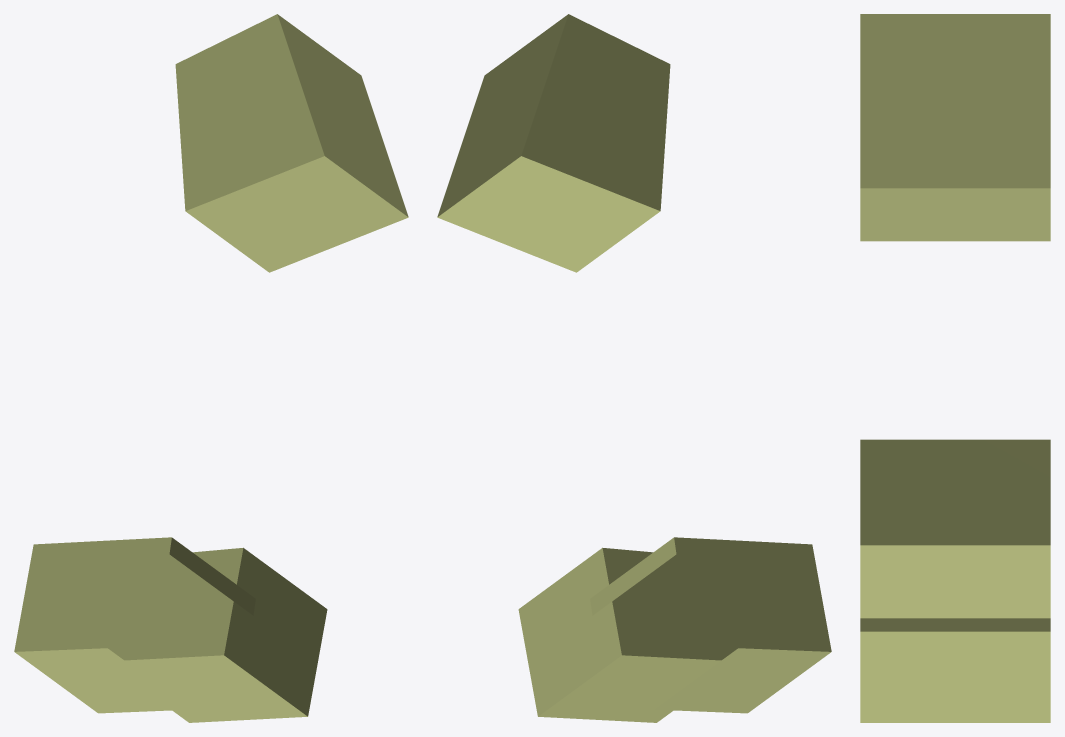
3 views of the same model, side by side, from view 1: azimuth 30°, elevation 25°; view 2: azimuth 150°, elevation 25°; view 3: azimuth 270°, elevation 25° (orthographic). The views are drawn at different scales.
Parts seen in each view (by area): view 1: 0_0_1_2_0_0_1_3_3; view 2: 0_0_1_2_0_0_1_3_3; view 3: 0_0_1_2_0_0_1_3_3.
Boxes of the visible parts, x1,y1,x2,y2 form: 0_0_1_2_0_0_1_3_3: (14,14,408,722); 0_0_1_2_0_0_1_3_3: (437,14,831,722); 0_0_1_2_0_0_1_3_3: (860,14,1050,722).
Bounding box in the file's own units: 12.8 × 24.75 × 6.
